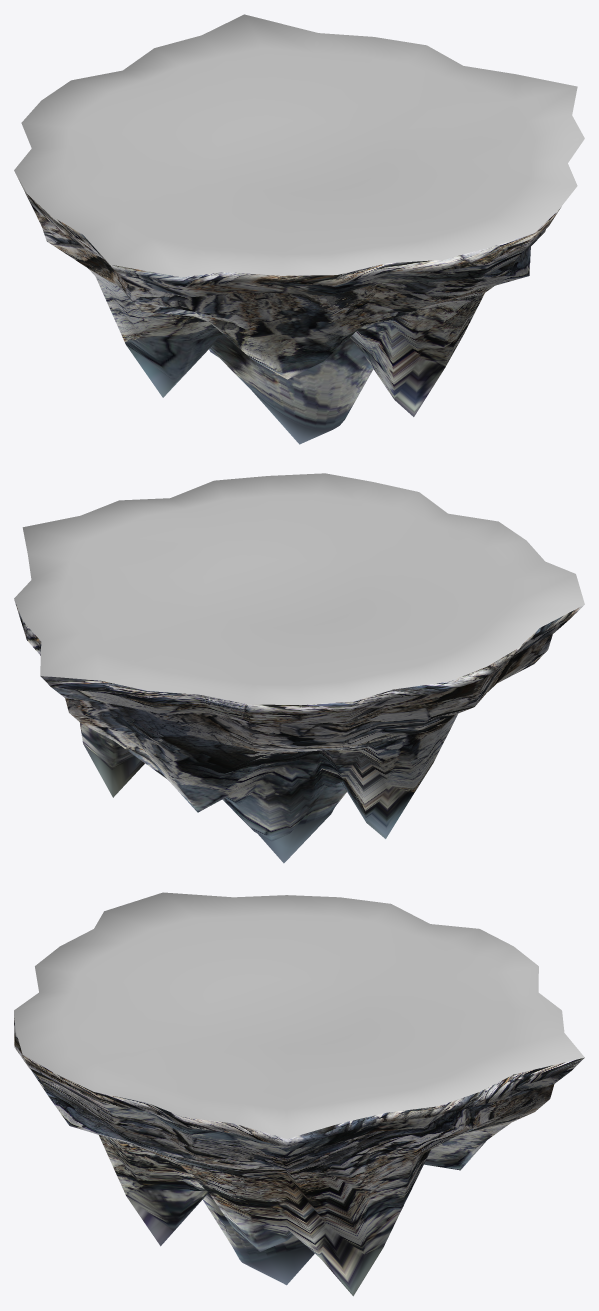
The model's file is island_nya 1.fbx.
3 renders of one model, top to bottom at view 1: azimuth 30°, elevation 25°; view 2: azimuth 150°, elevation 25°; view 3: azimuth 270°, elevation 25°, orthographic. The views are drawn at different scales.
Parts seen in each view (by area): view 1: island; view 2: island; view 3: island.
Boxes of the visible parts, left/top/right/bottom form: island: left=14, top=14, right=584, bottom=444; island: left=14, top=473, right=584, bottom=863; island: left=14, top=892, right=584, bottom=1296.
Size of the model in its own units: 650 by 339 by 637.
